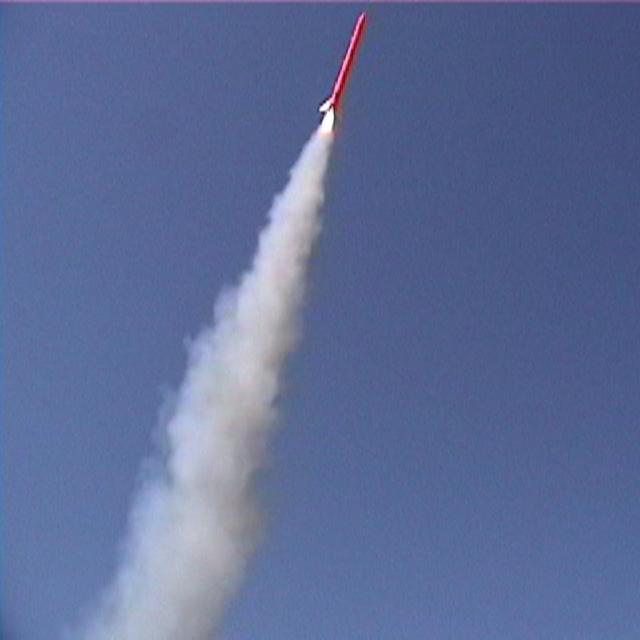Missile: (316, 8, 368, 121)
